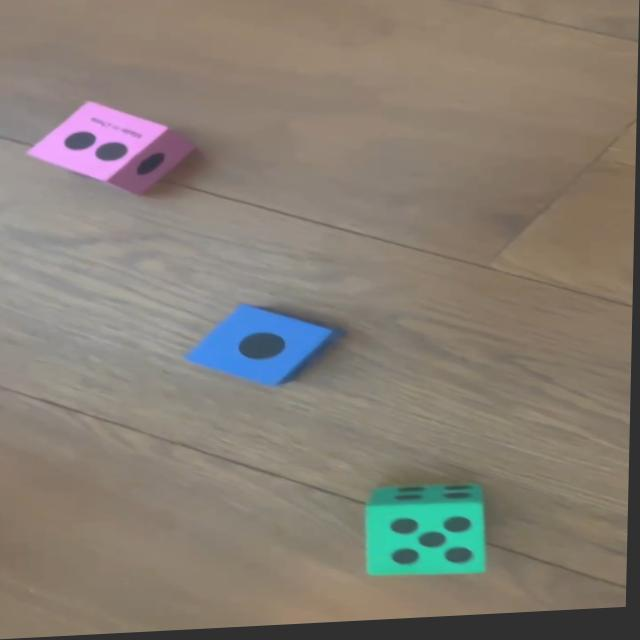blue_block: (184, 302, 344, 394)
